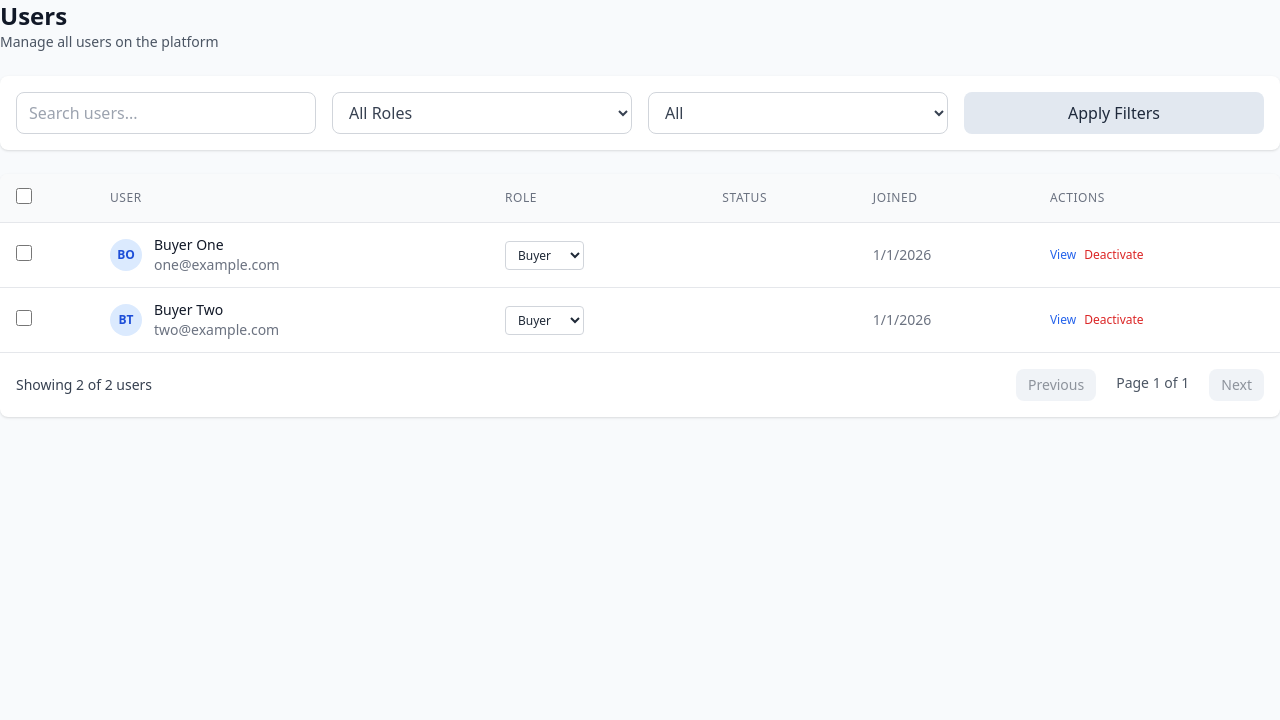
admin Users — deactivation › surfaces a settlement-deferred message from the server without hardcoding it client-side
The width and height of the screenshot is (1280, 720).
Expected: the text "Buyer One" is shown, top-left (154, 235), bottom-right (224, 254)
Click the button "Deactivate" in the row of "BO". click: x=1114, y=255
box: top-left (1084, 247), bottom-right (1144, 263)
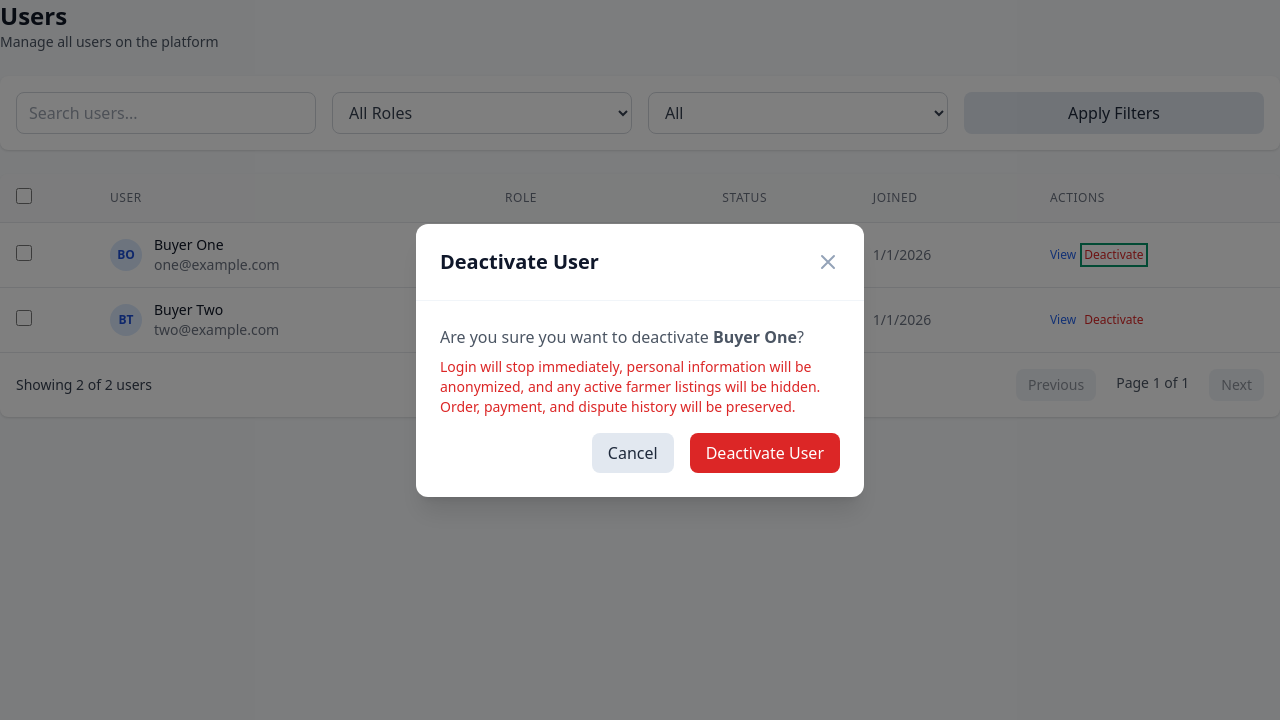
Click the button "Deactivate User". click: x=765, y=452
box: top-left (690, 432), bottom-right (840, 472)
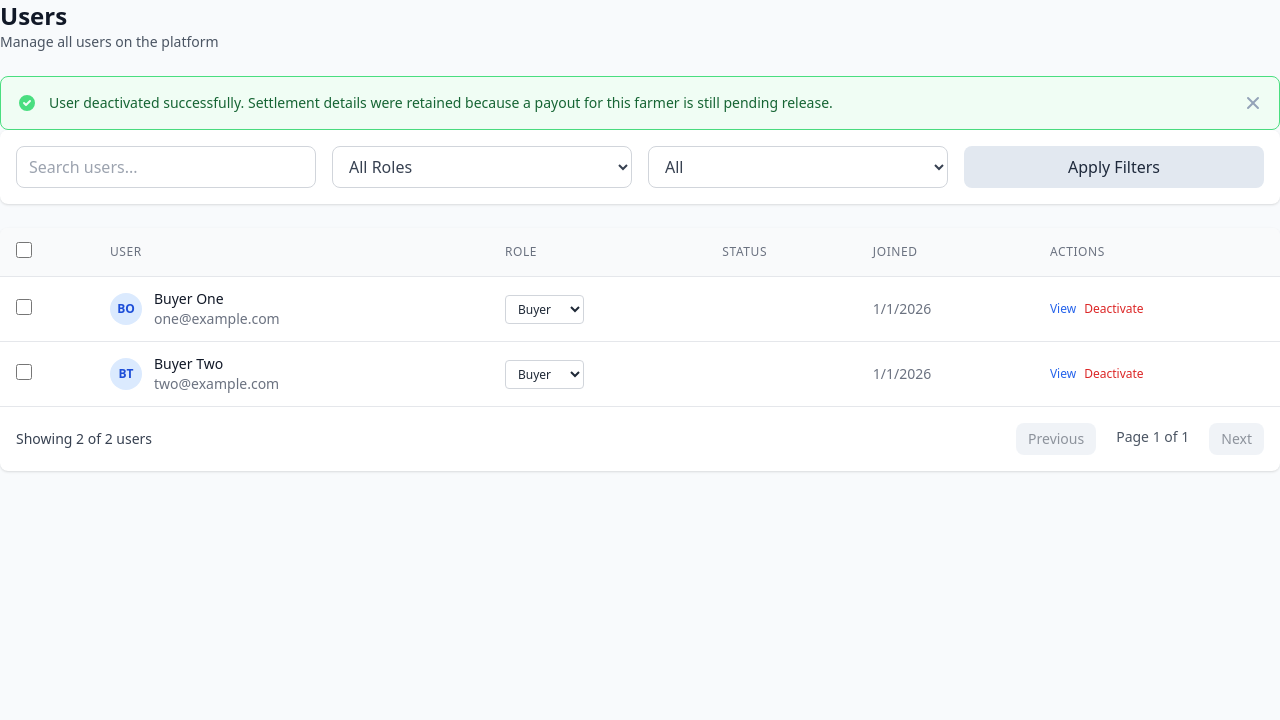
Expected: the text "pending release" is shown, top-left (49, 93), bottom-right (833, 112)
